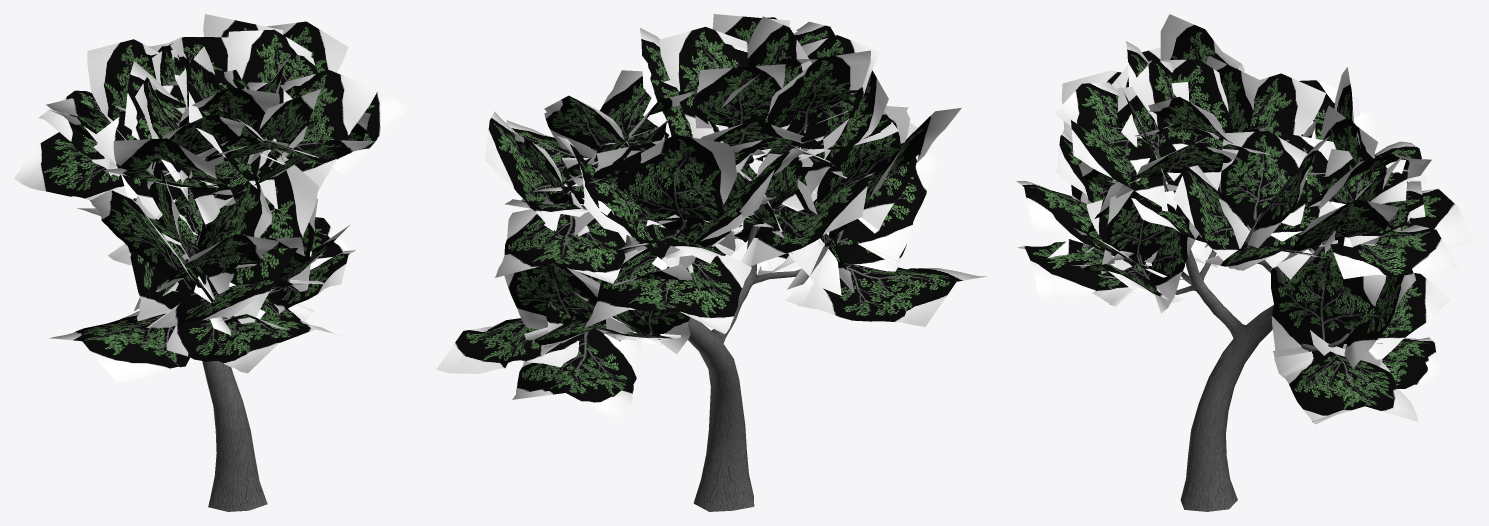
File: Tree3.FBX
3 views of the same model, side by side, from view 1: azimuth 30°, elevation 25°; view 2: azimuth 150°, elevation 25°; view 3: azimuth 270°, elevation 25° (orthographic). The views are drawn at different scales.
Visible parts, largest first — view 1: Tree3_LOD0; view 2: Tree3_LOD0; view 3: Tree3_LOD0.
Boxes of the visible parts, x1,y1,x2,y2 form: Tree3_LOD0: (14, 14, 407, 511); Tree3_LOD0: (436, 14, 987, 511); Tree3_LOD0: (1016, 14, 1474, 511).
Bounding box in the file's own units: 411 × 446 × 462.
